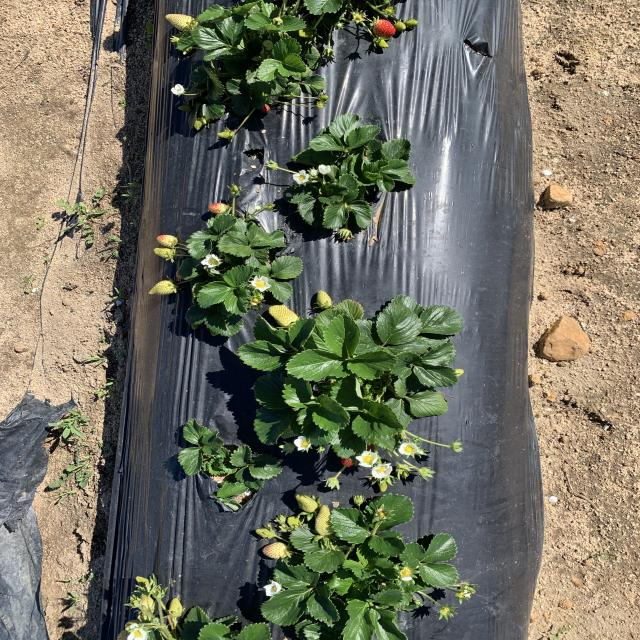unripe: (372, 18, 398, 39), (342, 452, 356, 470)
